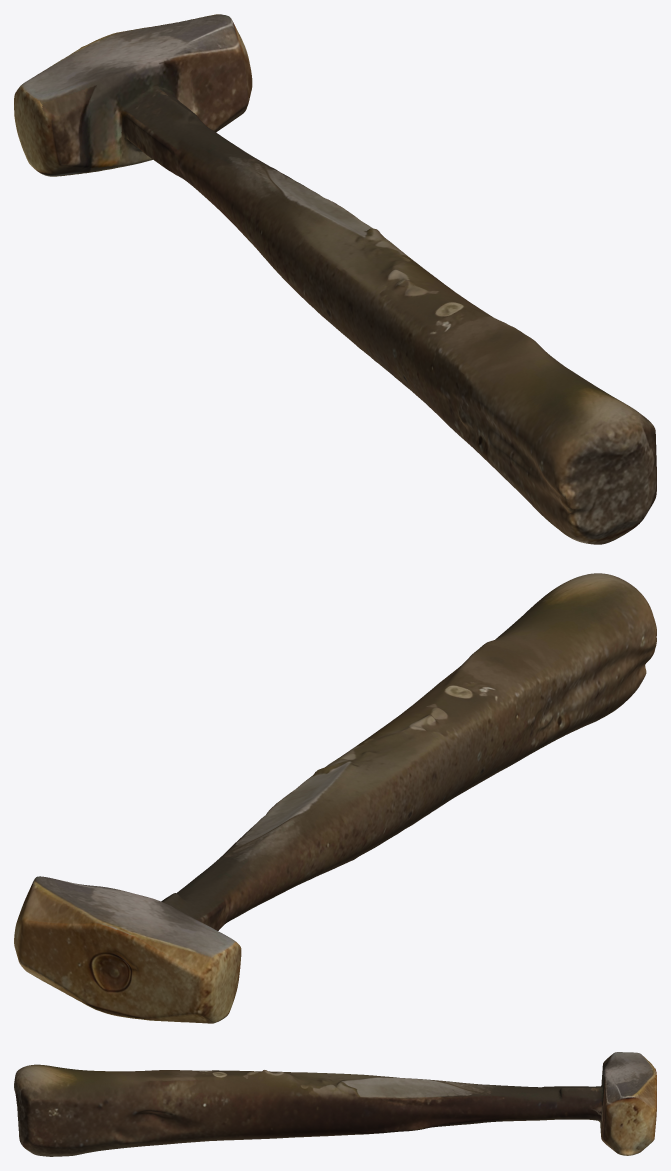
3 views of the same model, one above another, from view 1: azimuth 30°, elevation 25°; view 2: azimuth 150°, elevation 25°; view 3: azimuth 270°, elevation 25° (orthographic). The views are drawn at different scales.
Visible parts, largest first — view 1: tripo_node_5e1a00ef-8a96-4593-81a5-bb8a44ccfaaa; view 2: tripo_node_5e1a00ef-8a96-4593-81a5-bb8a44ccfaaa; view 3: tripo_node_5e1a00ef-8a96-4593-81a5-bb8a44ccfaaa.
Boxes of the visible parts, x1,y1,x2,y2 form: tripo_node_5e1a00ef-8a96-4593-81a5-bb8a44ccfaaa: (14, 14, 656, 544); tripo_node_5e1a00ef-8a96-4593-81a5-bb8a44ccfaaa: (14, 573, 656, 1023); tripo_node_5e1a00ef-8a96-4593-81a5-bb8a44ccfaaa: (14, 1052, 656, 1156).
Size of the model in its own units: 0.2404 by 0.1553 by 1.
1 material, 1 textured.
